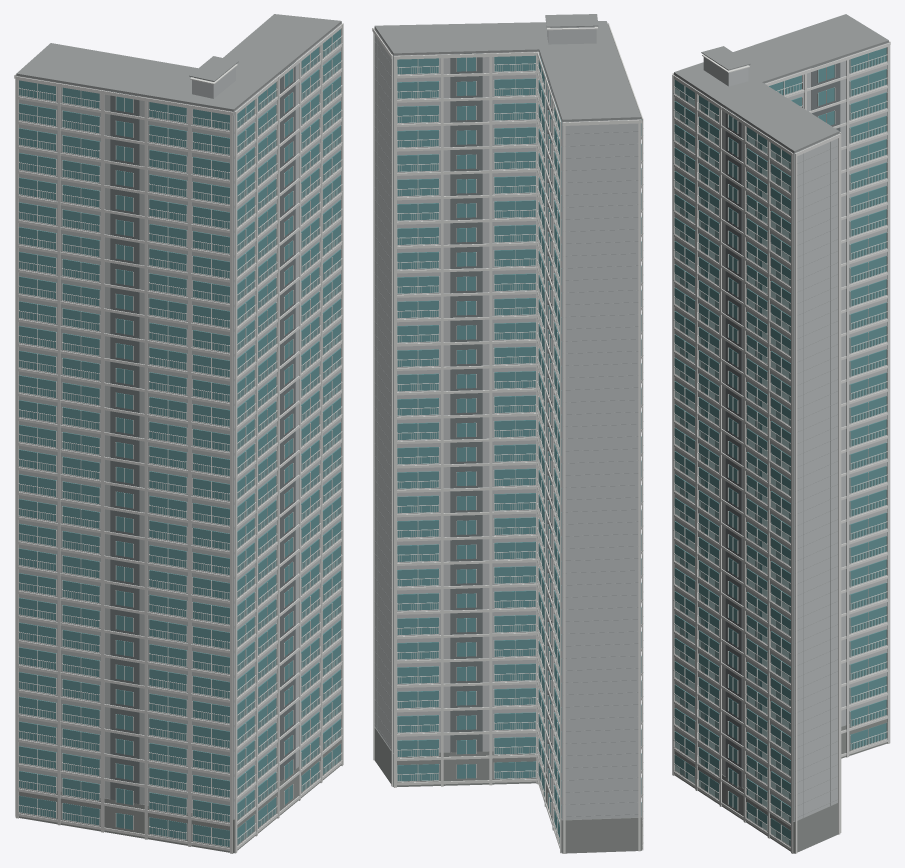
The model's file is bespoke-jamsil-ricenz-243.glb.
3 views of the same model, side by side, from view 1: azimuth 30°, elevation 25°; view 2: azimuth 150°, elevation 25°; view 3: azimuth 270°, elevation 25° (orthographic). The views are drawn at different scales.
Parts seen in each view (by area): view 1: Ricenz243_editable_Ricenz243_turquoise_balcony_glazing, Ricenz243_editable_Ricenz243_light_grey_solid_wall, Ricenz243_white_exact_chunk_1, Ricenz243_white_exact_chunk_0, Ricenz243_white_exact_chunk_2, Ricenz243_white_exact_chunk_3, Ricenz243_editable_Ricenz243_narrow_charcoal_service_strips, Ricenz243_editable_Ricenz243_modest_grey_flat_roof_caps, Ricenz243_editable_Ricenz243_muted_ground_wall; view 2: Ricenz243_editable_Ricenz243_light_grey_solid_wall, Ricenz243_editable_Ricenz243_turquoise_balcony_glazing, Ricenz243_white_exact_chunk_4, Ricenz243_editable_Ricenz243_modest_grey_flat_roof_caps, Ricenz243_editable_Ricenz243_narrow_charcoal_service_strips, Ricenz243_white_exact_chunk_3, Ricenz243_white_exact_chunk_5, Ricenz243_white_exact_chunk_0, Ricenz243_editable_Ricenz243_muted_ground_wall, Ricenz243_white_exact_chunk_1; view 3: Ricenz243_editable_Ricenz243_turquoise_balcony_glazing, Ricenz243_editable_Ricenz243_light_grey_solid_wall, Ricenz243_white_exact_chunk_3, Ricenz243_white_exact_chunk_2, Ricenz243_white_exact_chunk_5, Ricenz243_editable_Ricenz243_modest_grey_flat_roof_caps, Ricenz243_editable_Ricenz243_narrow_charcoal_service_strips, Ricenz243_white_exact_chunk_1, Ricenz243_editable_Ricenz243_muted_ground_wall, Ricenz243_white_exact_chunk_4.
Part boxes in pixels (x1,y1,x2,y2): Ricenz243_editable_Ricenz243_turquoise_balcony_glazing: (19,29,340,846); Ricenz243_editable_Ricenz243_light_grey_solid_wall: (16,23,341,819); Ricenz243_white_exact_chunk_1: (15,76,256,853); Ricenz243_white_exact_chunk_0: (14,74,187,844); Ricenz243_white_exact_chunk_2: (234,68,320,832); Ricenz243_white_exact_chunk_3: (234,22,343,853); Ricenz243_editable_Ricenz243_narrow_charcoal_service_strips: (110,61,295,803); Ricenz243_editable_Ricenz243_modest_grey_flat_roof_caps: (16,14,341,111); Ricenz243_editable_Ricenz243_muted_ground_wall: (19,735,341,853); Ricenz243_editable_Ricenz243_light_grey_solid_wall: (374,26,641,820); Ricenz243_editable_Ricenz243_turquoise_balcony_glazing: (397,55,641,842); Ricenz243_white_exact_chunk_4: (393,52,552,825); Ricenz243_editable_Ricenz243_modest_grey_flat_roof_caps: (374,14,641,816); Ricenz243_editable_Ricenz243_narrow_charcoal_service_strips: (450,53,553,790); Ricenz243_white_exact_chunk_3: (372,27,489,786); Ricenz243_white_exact_chunk_5: (537,26,597,853); Ricenz243_white_exact_chunk_0: (562,119,643,853); Ricenz243_editable_Ricenz243_muted_ground_wall: (374,727,641,853); Ricenz243_white_exact_chunk_1: (608,23,643,850); Ricenz243_editable_Ricenz243_turquoise_balcony_glazing: (674,47,886,845); Ricenz243_editable_Ricenz243_light_grey_solid_wall: (674,42,888,821); Ricenz243_white_exact_chunk_3: (672,74,840,853); Ricenz243_white_exact_chunk_2: (673,79,767,834); Ricenz243_white_exact_chunk_5: (702,42,890,757); Ricenz243_editable_Ricenz243_modest_grey_flat_roof_caps: (674,14,888,817); Ricenz243_editable_Ricenz243_narrow_charcoal_service_strips: (725,58,840,787); Ricenz243_white_exact_chunk_1: (672,73,695,787); Ricenz243_editable_Ricenz243_muted_ground_wall: (674,715,887,853); Ricenz243_white_exact_chunk_4: (776,75,846,832).
Bounding box in the file's own units: 37.56 × 91.04 × 25.04.
